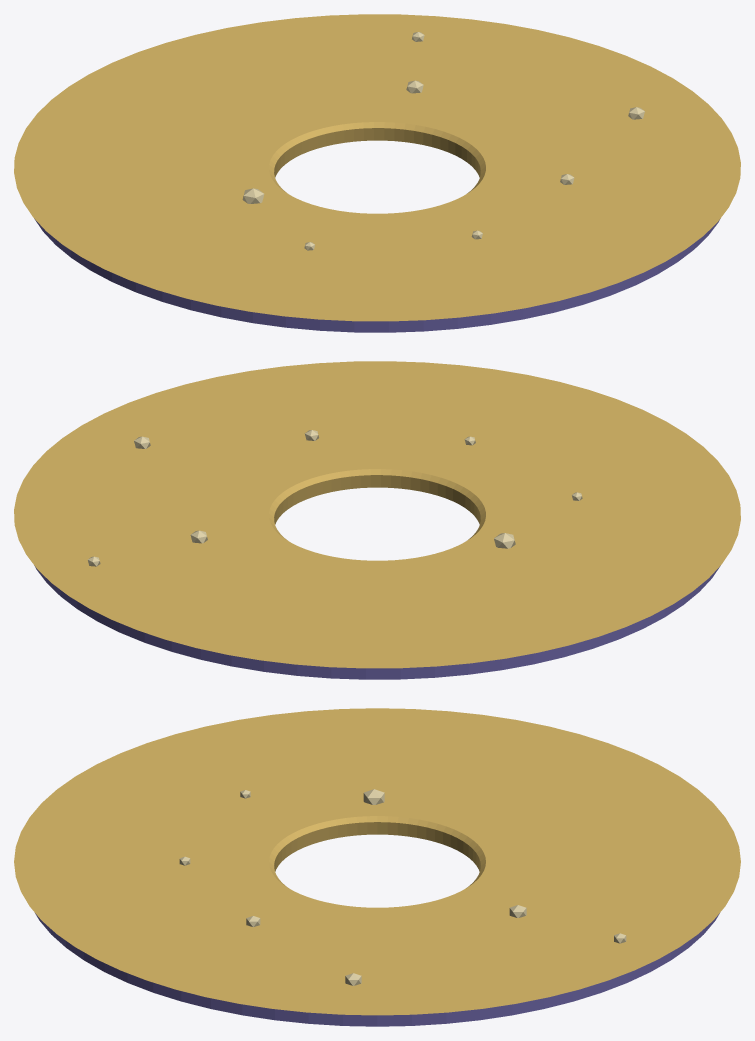
Rendered from goo_jar_deck_4@starlight.fbx.
3 renders of one model, top to bottom at view 1: azimuth 30°, elevation 25°; view 2: azimuth 150°, elevation 25°; view 3: azimuth 270°, elevation 25°, orthographic.
Parts seen in each view (by area): view 1: goo_jar_deck_4; view 2: goo_jar_deck_4; view 3: goo_jar_deck_4.
Part boxes in pixels (x1=…): goo_jar_deck_4: x1=14, y1=14, x2=740, y2=332; goo_jar_deck_4: x1=14, y1=361, x2=740, y2=679; goo_jar_deck_4: x1=14, y1=708, x2=740, y2=1026.
Size of the model in its own units: 42.2 by 1.78 by 42.2.
